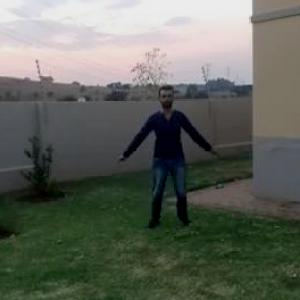land: (102, 83, 218, 231)
